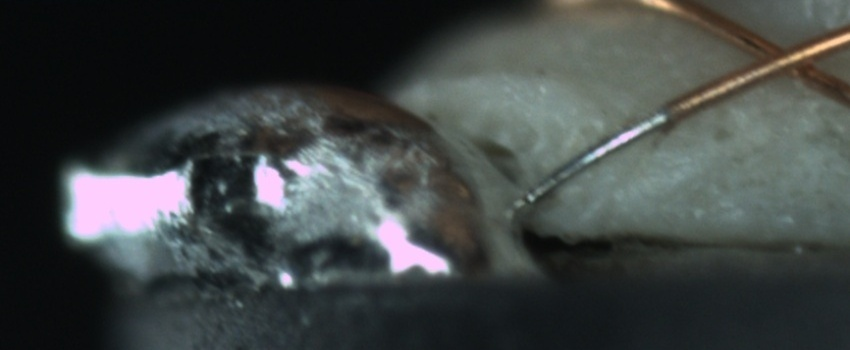CL: (727, 24, 836, 90)
TS: (524, 108, 673, 206)
